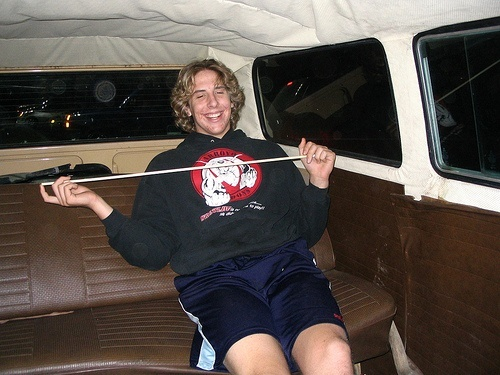head: (180, 58, 237, 141)
person: (38, 54, 360, 375)
